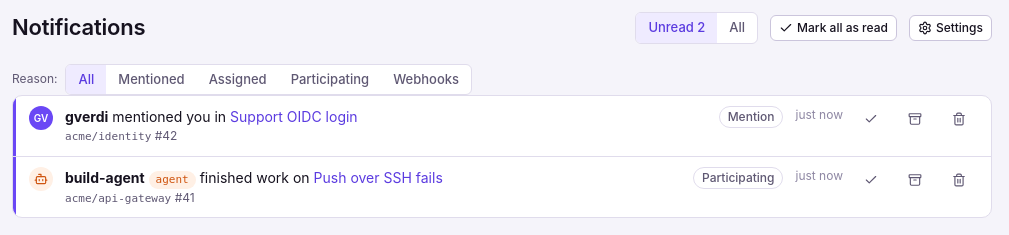
it: NotificationsPage › segna tutte come lette, con il filtro per motivo corrente
Click the button "Mentioned".
click(152, 79)  # box [106, 64, 197, 94]
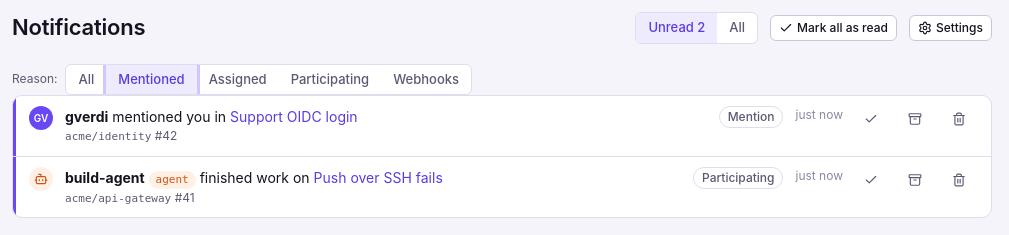
Click the button "Mark all as read".
click(834, 28)  # box [770, 15, 897, 41]
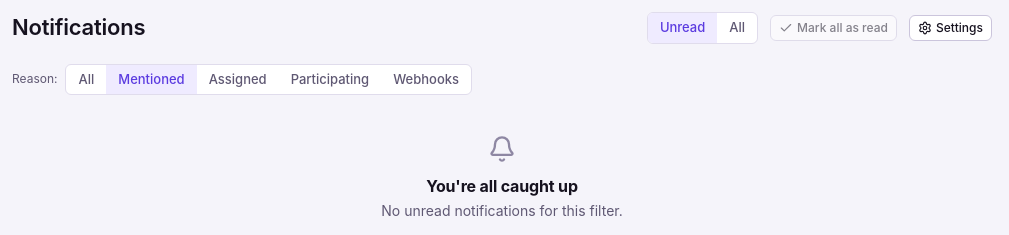
Result: the heading "You're all caught up" is shown at [426, 176, 578, 196]
